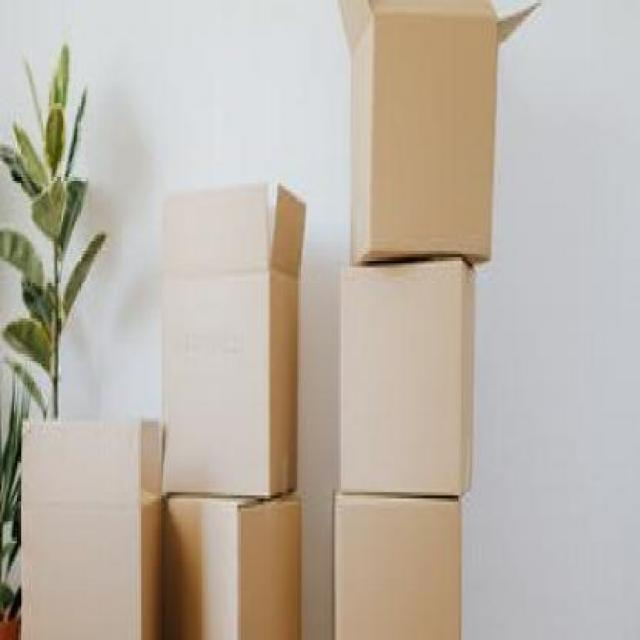box: (159, 194, 302, 498), (343, 4, 509, 263), (21, 409, 172, 640), (332, 256, 474, 499), (168, 490, 298, 640), (334, 492, 463, 640)
